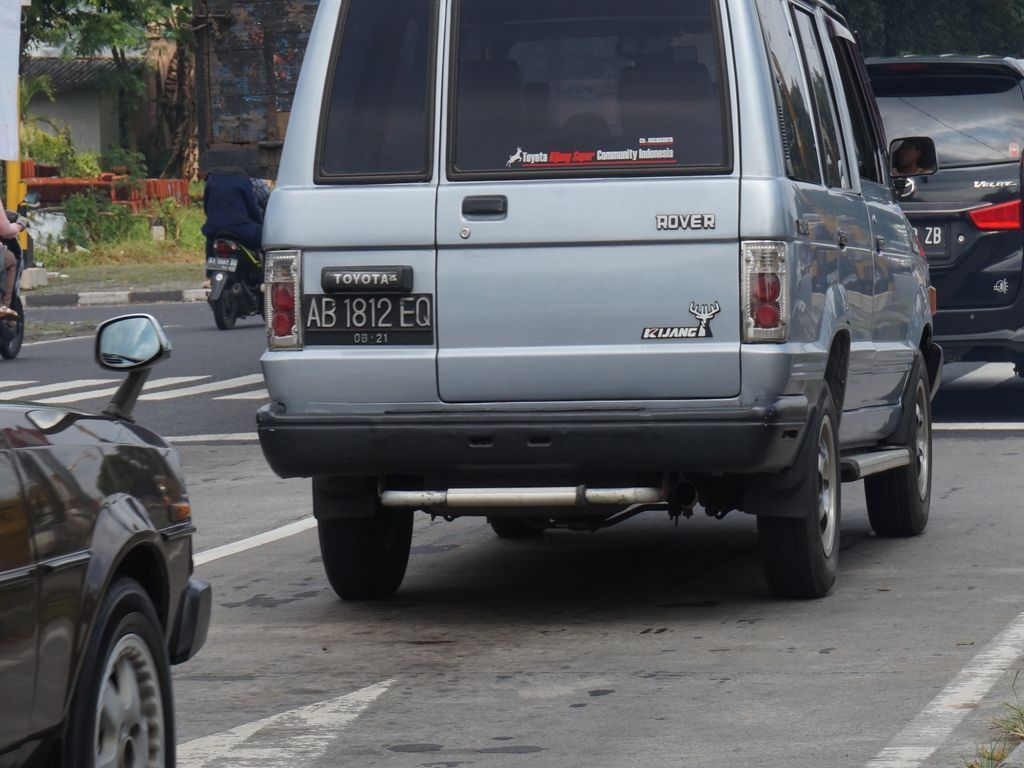plate: (306, 297, 429, 342)
